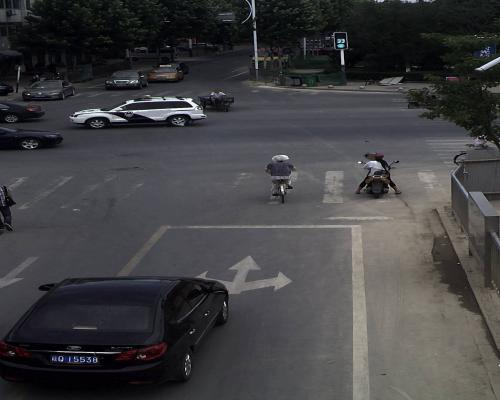Carplate: (44, 352, 105, 365)
